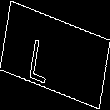L_N: (42, 26, 68, 84)
